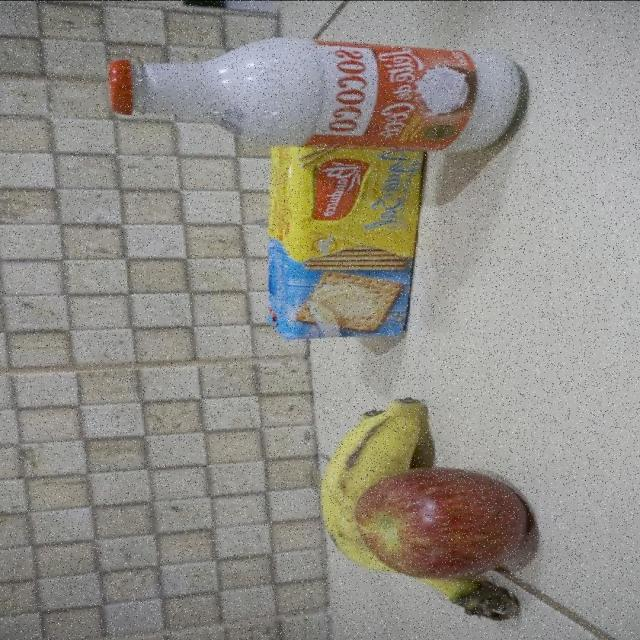Apple: (353, 465, 537, 580)
Banana: (324, 395, 431, 485)
CoconutMilk: (107, 34, 526, 150)
Cracker: (266, 142, 426, 340)
